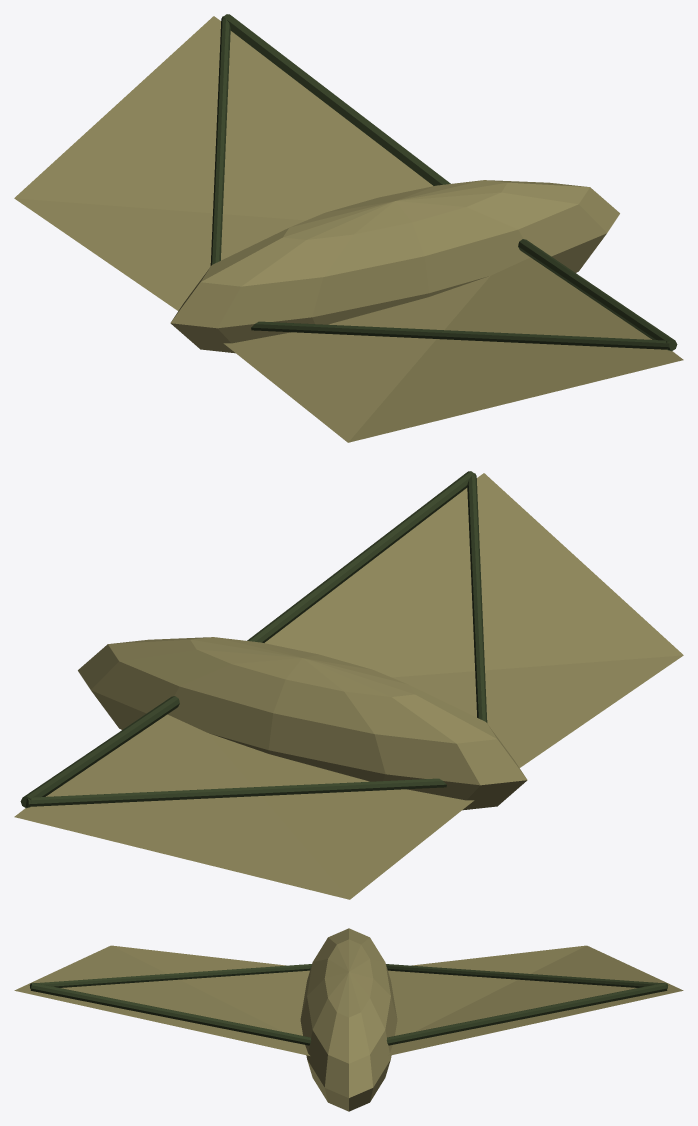
File: SM_MP_Dust_Moth.fbx
3 renders of one model, top to bottom at view 1: azimuth 30°, elevation 25°; view 2: azimuth 150°, elevation 25°; view 3: azimuth 270°, elevation 25°, orthographic. The views are drawn at different scales.
Visible parts, largest first — view 1: SM_MP_Dust_Moth; view 2: SM_MP_Dust_Moth; view 3: SM_MP_Dust_Moth.
Part boxes in pixels (left/top/right/bottom): SM_MP_Dust_Moth: left=14, top=14, right=683, bottom=442; SM_MP_Dust_Moth: left=14, top=471, right=683, bottom=899; SM_MP_Dust_Moth: left=14, top=928, right=683, bottom=1111.
Size of the model in its own units: 42 by 76 by 12.99.
Materials: 1 (1 with a texture image).
